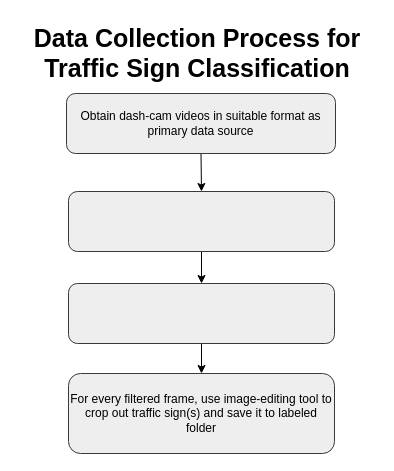
The diagram is 394 pixels wide and 471 high, and some of its shapes have lost their labels. Each missing label, with the box of its shape:
Extract video frames at specific intervals: (68, 190, 334, 252)
Review individual frames and filter out those without traffic signs in them: (68, 282, 334, 344)
